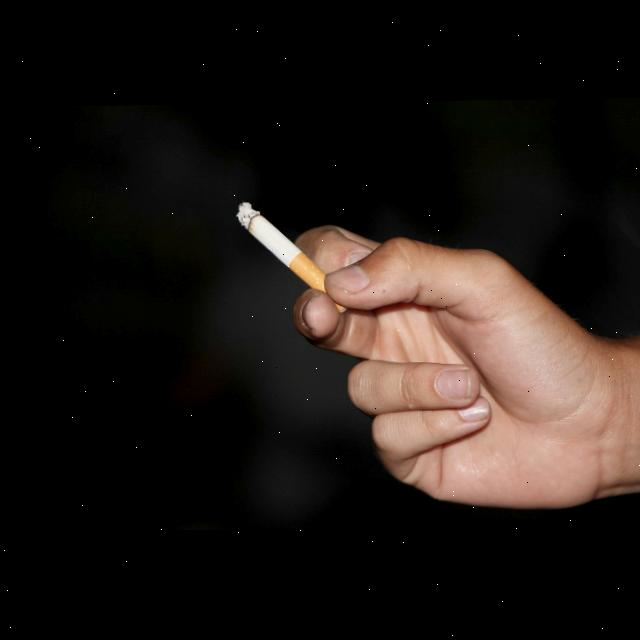cigarette: (233, 202, 344, 315)
